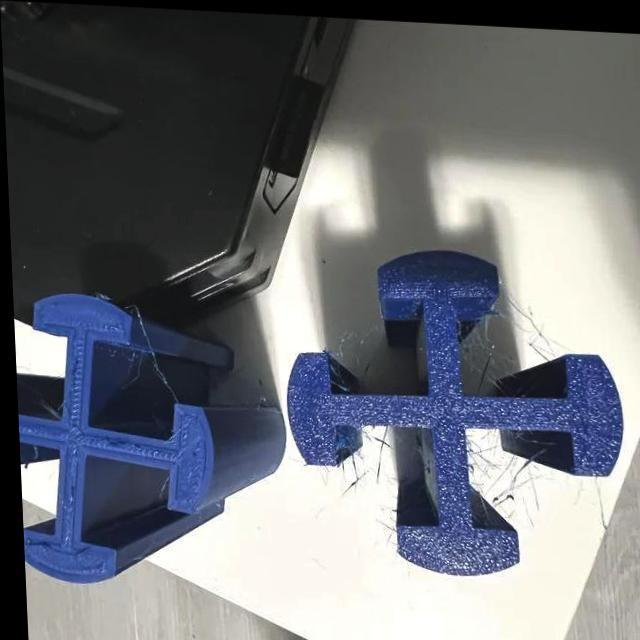stringing: (481, 430, 555, 503), (491, 289, 556, 354), (464, 336, 503, 372), (466, 434, 494, 474), (366, 428, 388, 466), (338, 454, 367, 480)
